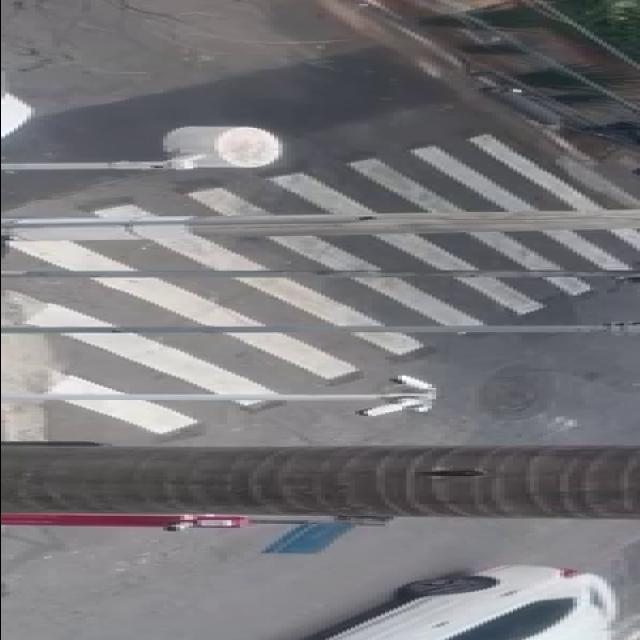car: (302, 561, 632, 640)
